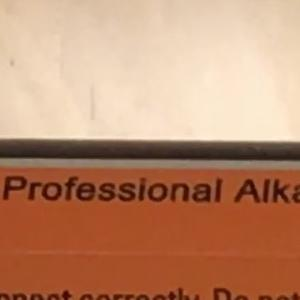ALK: (224, 169, 292, 213)
